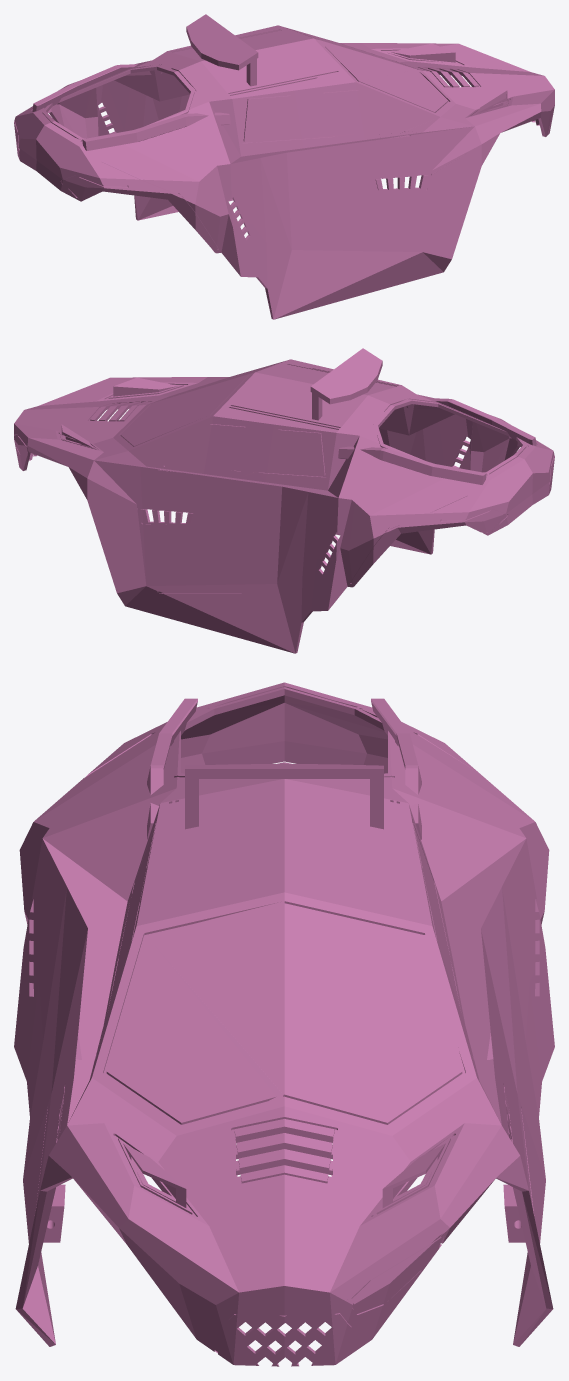
File: WS03_panel_skin_v2.glb
3 views of the same model, one above another, from view 1: azimuth 30°, elevation 25°; view 2: azimuth 150°, elevation 25°; view 3: azimuth 270°, elevation 25° (orthographic). The views are drawn at different scales.
Parts seen in each view (by area): view 1: skin_rear, skin_front; view 2: skin_rear, skin_front; view 3: skin_front, skin_rear.
Part boxes in pixels (bbox=[...]): skin_rear: bbox=[14, 14, 352, 319]; skin_front: bbox=[228, 25, 554, 297]; skin_rear: bbox=[216, 348, 554, 653]; skin_front: bbox=[14, 359, 340, 631]; skin_front: bbox=[15, 863, 553, 1366]; skin_rear: bbox=[14, 682, 554, 1253].
Size of the model in its own units: 393 by 170 by 190.
